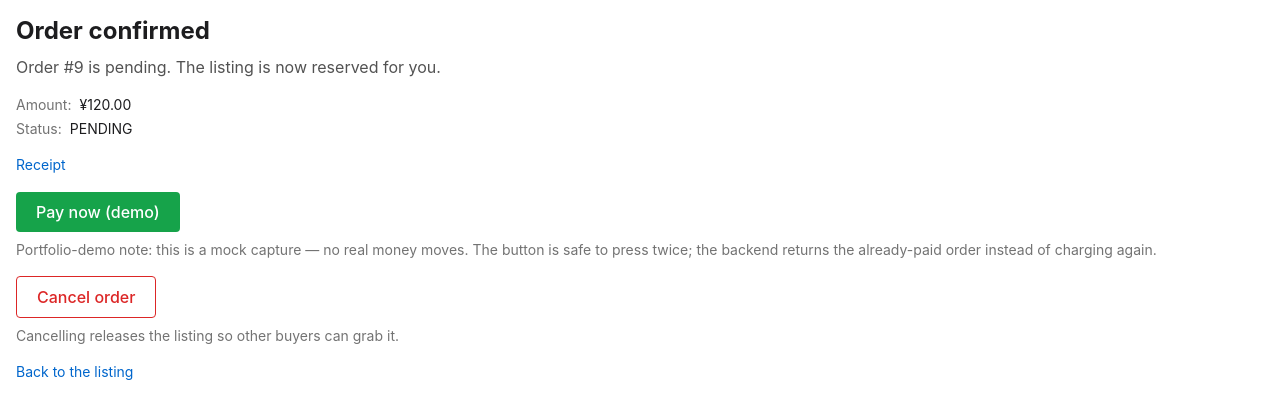
Test case: OrderConfirmationPage PSP references (backlog #119) › paying flows the capture id through the mutation invalidation — it renders after the refetch, with no extra fetch
Expected: the heading "Order confirmed" is shown, [16, 16, 210, 45]
Expected: the text "Payment reference" is not shown
Click the button "Pay now (demo)": click(98, 212) [16, 192, 180, 232]
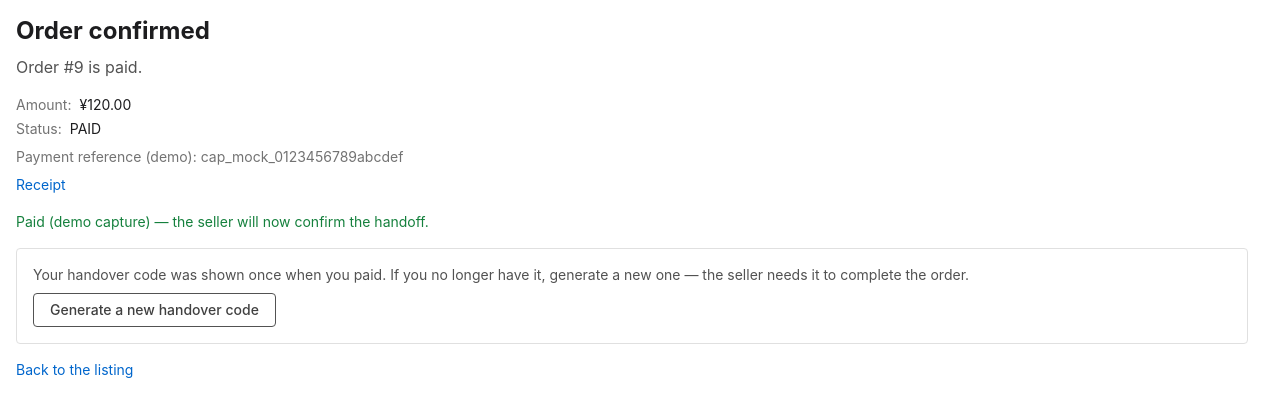
Now the text "Payment reference (demo): cap_mock_0123456789abcdef" is shown, box [16, 148, 403, 165]
